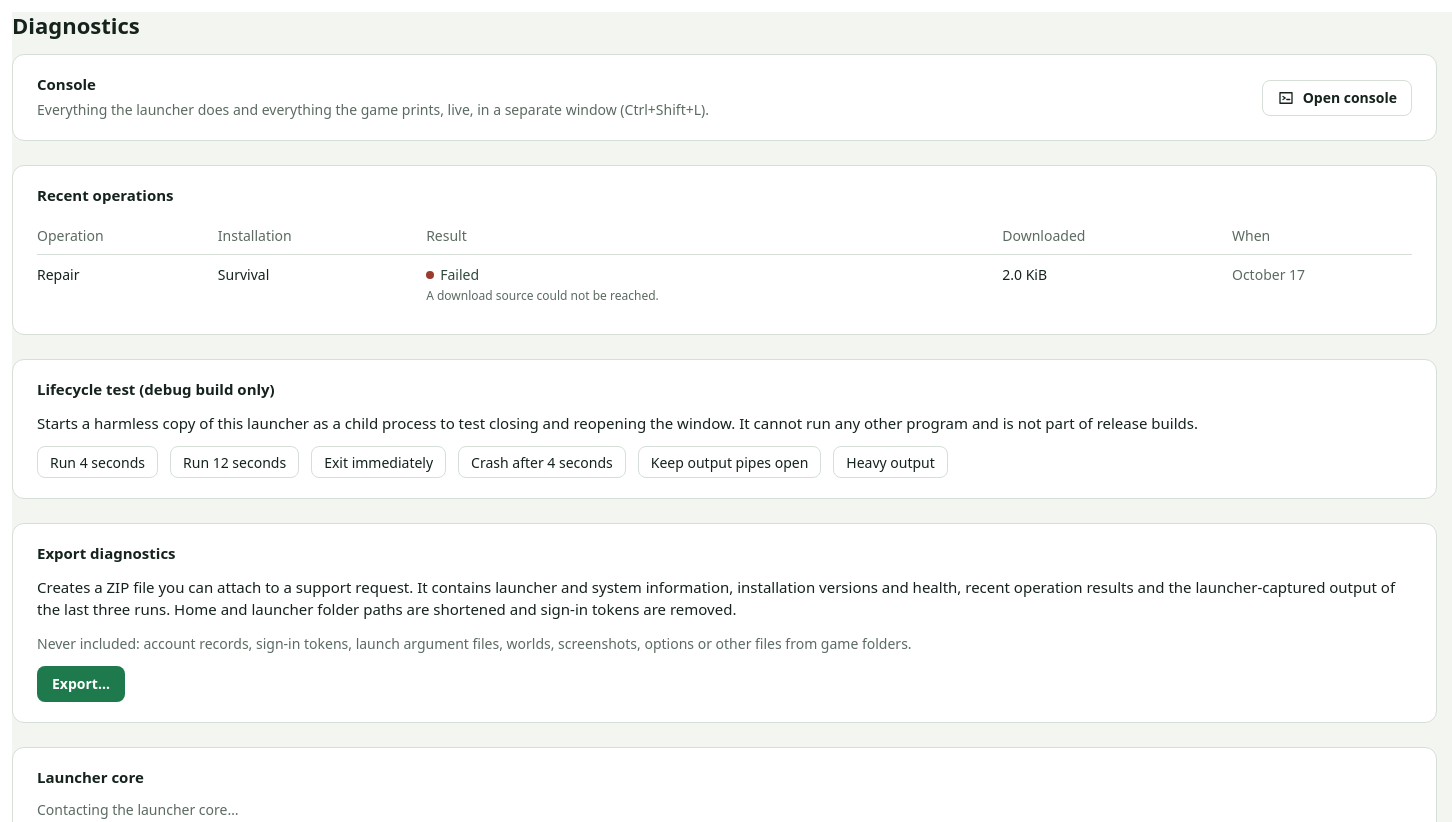
Test case: DiagnosticsView › explains the export and reports where it was saved
The width and height of the screenshot is (1452, 822).
Expected: the text "Never included: account records, sign-in tokens" is shown, [37,634,912,653]
Click the button "Export…": point(81, 684) [37,666,125,702]
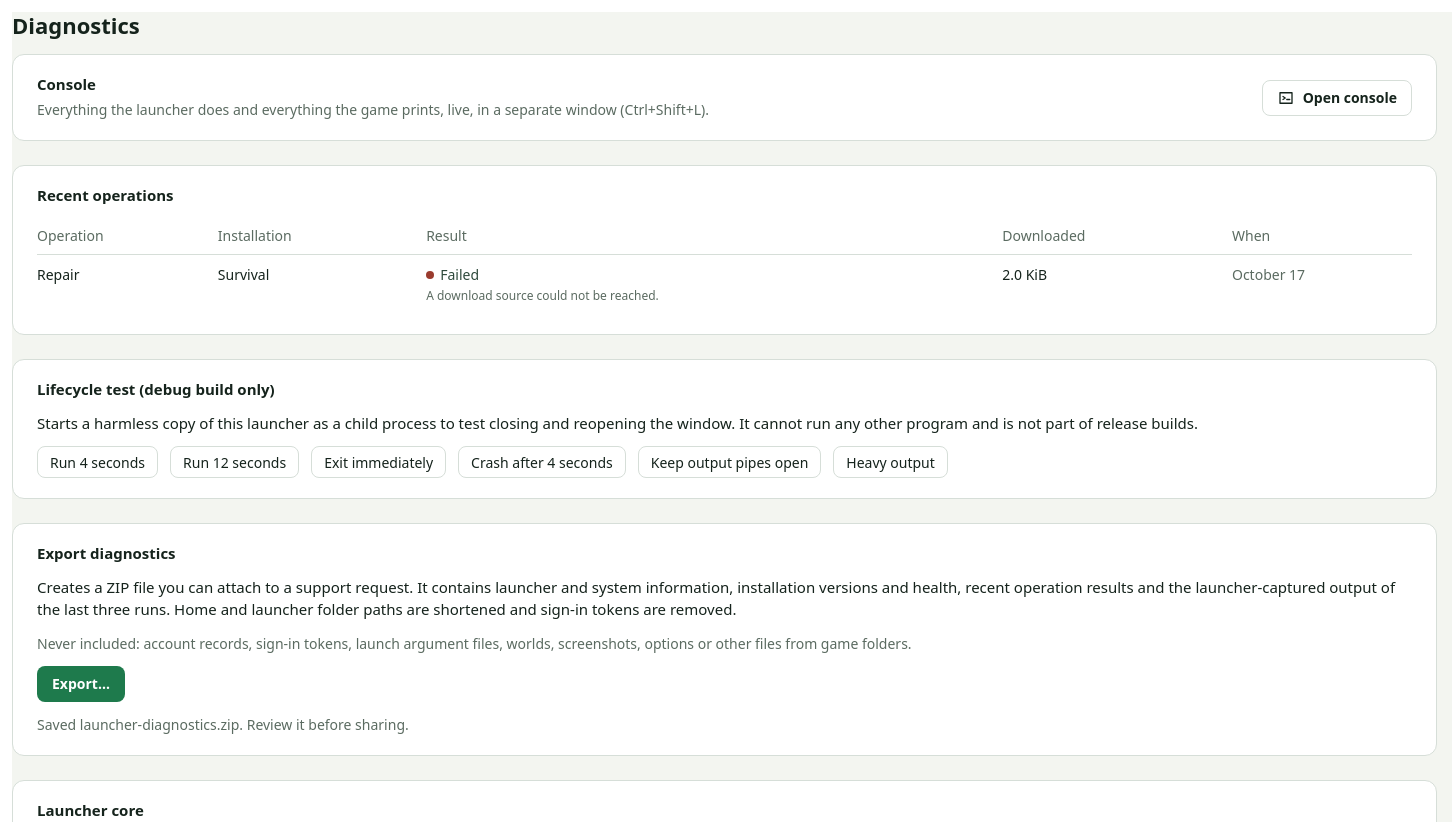
Expected: the text "Saved launcher-diagnostics.zip. Review it before sharing." is shown, [37,715,409,734]
